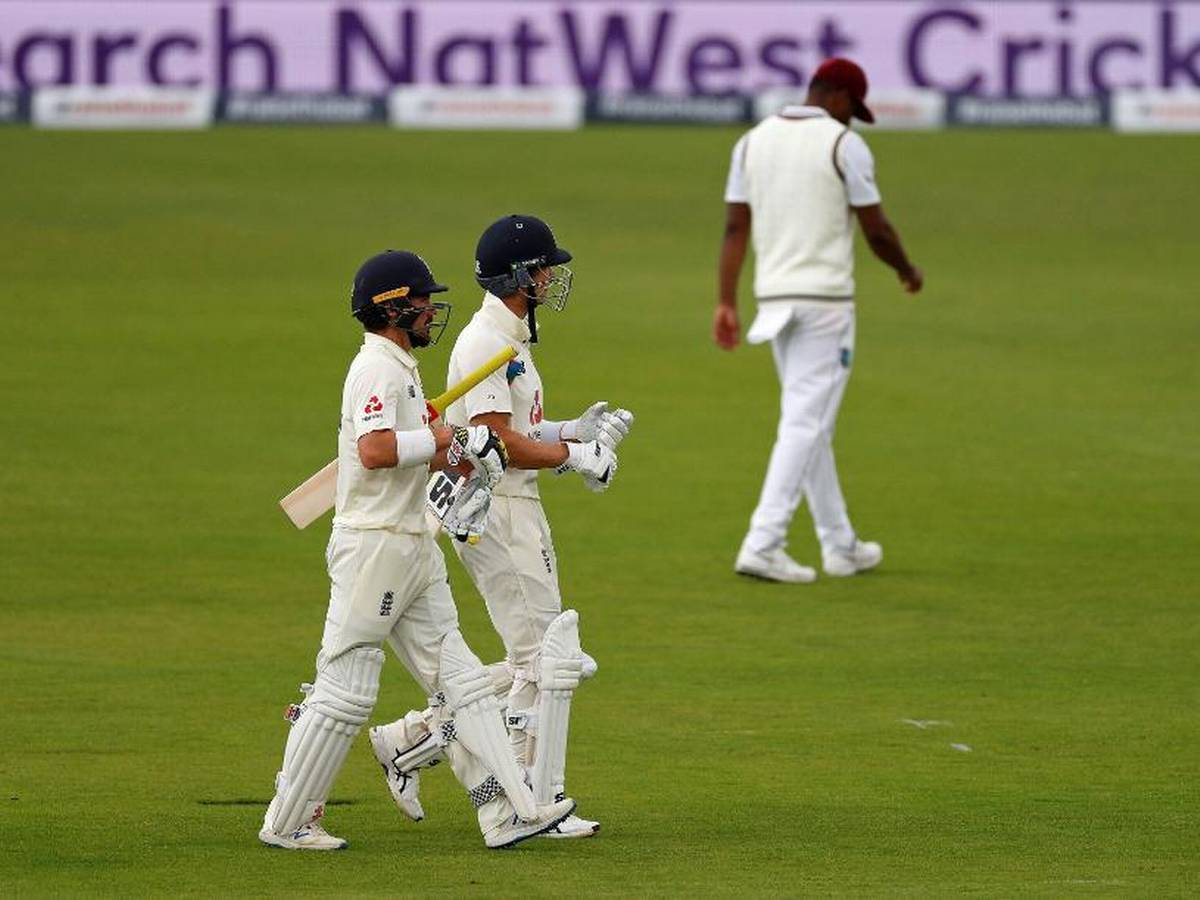Person: (260, 250, 452, 847), (715, 57, 923, 585), (449, 215, 635, 639)
